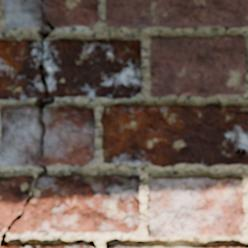brick: (102, 104, 247, 166), (148, 177, 244, 236), (151, 37, 245, 96), (106, 0, 247, 27), (0, 243, 94, 247), (107, 245, 198, 247), (224, 106, 247, 110), (209, 245, 242, 247)
broken_brick: (7, 174, 140, 234), (44, 38, 141, 99), (42, 105, 95, 167), (0, 39, 44, 100), (3, 0, 98, 28), (0, 105, 39, 167), (0, 176, 32, 228)
crack: (0, 2, 55, 245), (212, 104, 247, 114)
